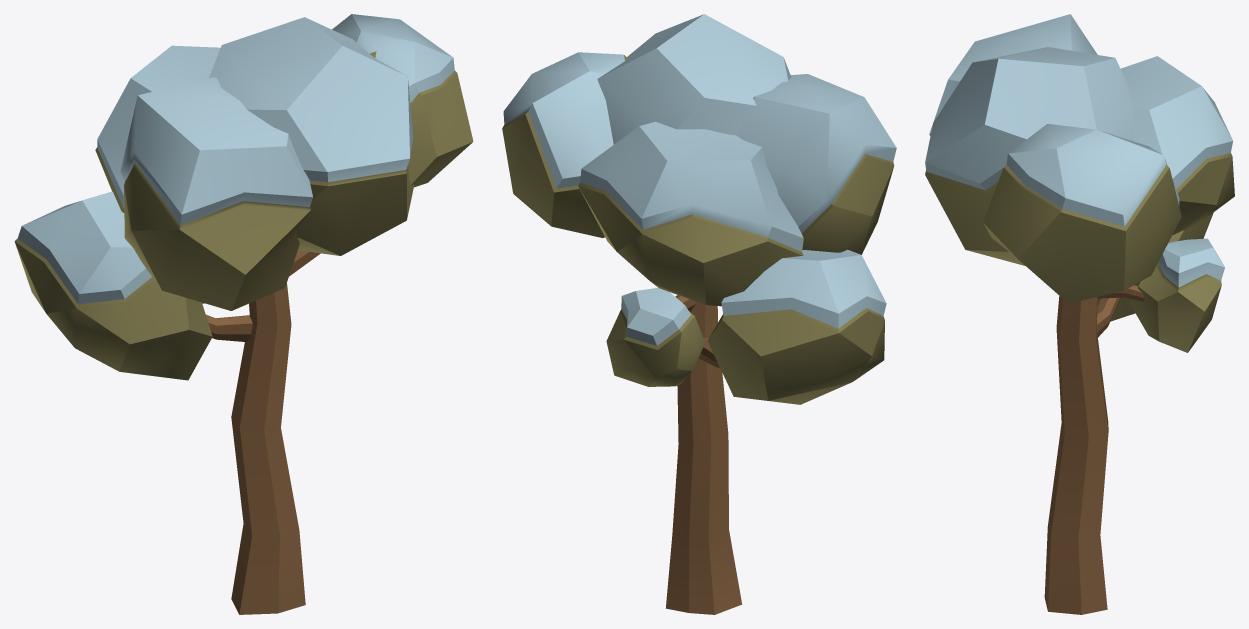
Rendered from Geo_TreeGreen.fbx.
3 renders of one model, left to right at view 1: azimuth 30°, elevation 25°; view 2: azimuth 150°, elevation 25°; view 3: azimuth 270°, elevation 25°, orthographic. The views are drawn at different scales.
Parts seen in each view (by area): view 1: AutumnTreeGreen_Mesh2; view 2: AutumnTreeGreen_Mesh2; view 3: AutumnTreeGreen_Mesh2.
Boxes of the visible parts, x1,y1,x2,y2 form: AutumnTreeGreen_Mesh2: [14, 14, 473, 614]; AutumnTreeGreen_Mesh2: [502, 14, 896, 614]; AutumnTreeGreen_Mesh2: [925, 14, 1234, 614].
Bounding box in the file's own units: 400 × 575 × 289.
